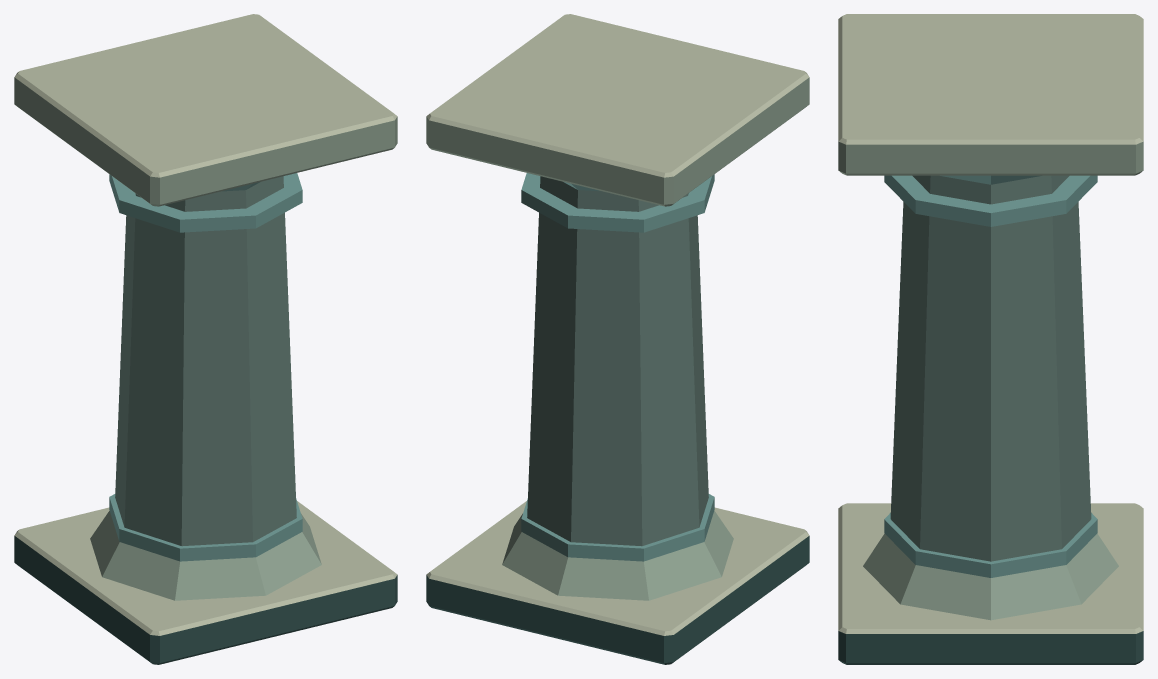
File: pillar-large.glb
The picture shows the model from 3 angles, left to right: view 1: azimuth 30°, elevation 25°; view 2: azimuth 150°, elevation 25°; view 3: azimuth 270°, elevation 25°; orthographic projection. The views are drawn at different scales.
Parts seen in each view (by area): view 1: pillar-large__body; view 2: pillar-large__body; view 3: pillar-large__body.
Part boxes in pixels (x1,y1,x2,y2): pillar-large__body: [14, 14, 397, 664]; pillar-large__body: [426, 14, 809, 664]; pillar-large__body: [838, 14, 1143, 664].
Size of the model in its own units: 1 by 1.9 by 1.
